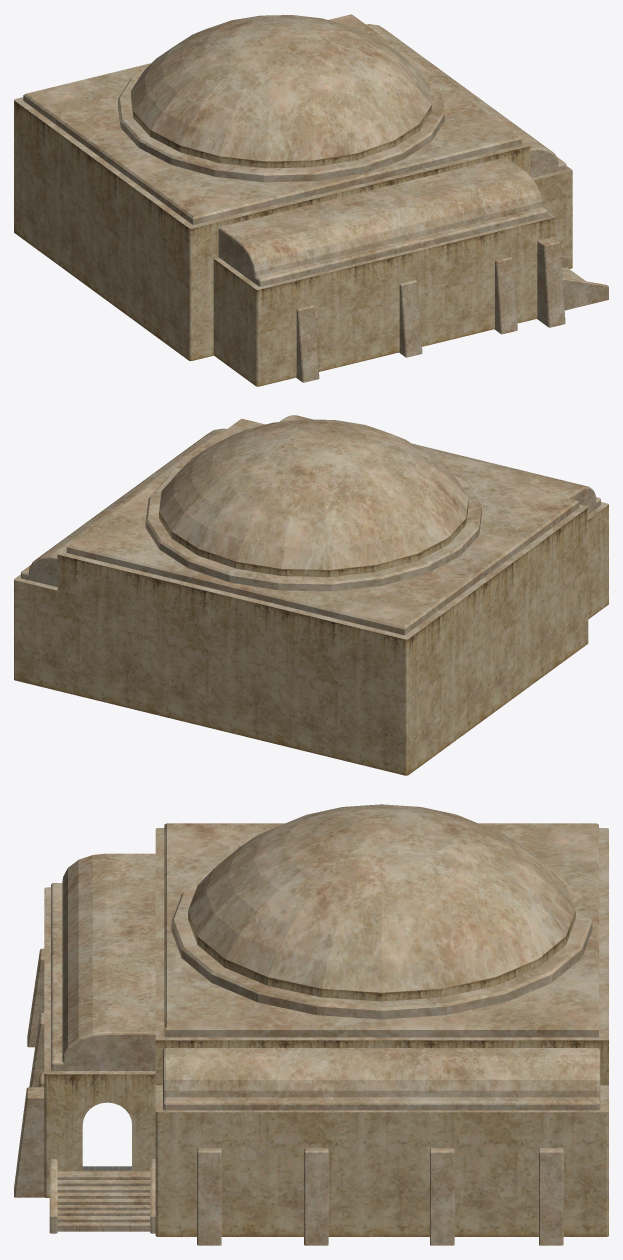
Rendered from thm_tato_house_m_s01_fp1_r0_mesh_l0.fbx.
3 renders of one model, top to bottom at view 1: azimuth 30°, elevation 25°; view 2: azimuth 150°, elevation 25°; view 3: azimuth 270°, elevation 25°, orthographic. The views are drawn at different scales.
Parts seen in each view (by area): view 1: mesh_node; view 2: mesh_node; view 3: mesh_node.
Boxes of the visible parts, x1,y1,x2,y2 form: mesh_node: (14, 14, 608, 386); mesh_node: (14, 415, 608, 775); mesh_node: (14, 804, 608, 1245).
Size of the model in its own units: 23.78 by 12.49 by 24.09.
